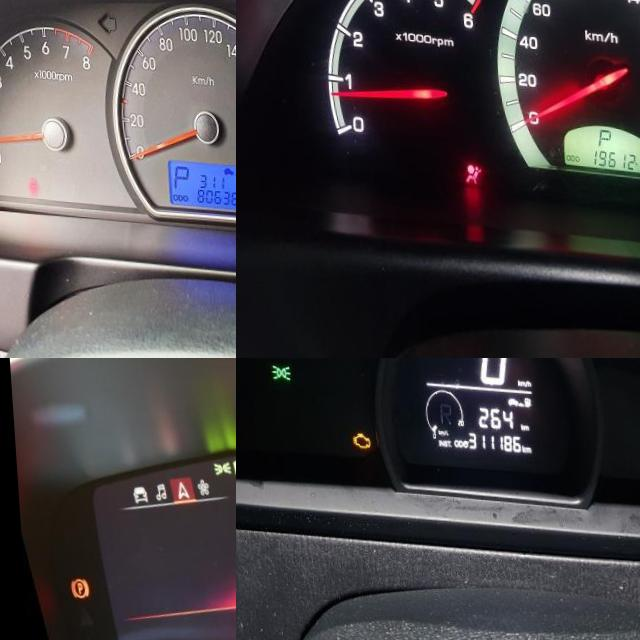Doors: (21, 175, 35, 194)
Low beam: (225, 449, 236, 473)
SideLamp: (207, 455, 228, 473), (266, 361, 287, 378)
